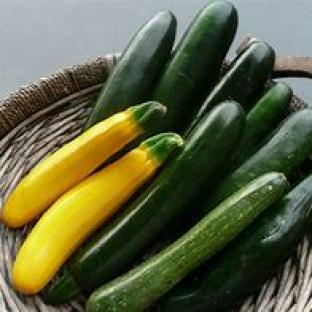Zucchini: (45, 102, 245, 304), (86, 173, 288, 311), (13, 134, 183, 294), (2, 102, 165, 228), (161, 176, 311, 311), (207, 108, 311, 209), (86, 12, 176, 128), (190, 40, 275, 128), (230, 83, 292, 169)
